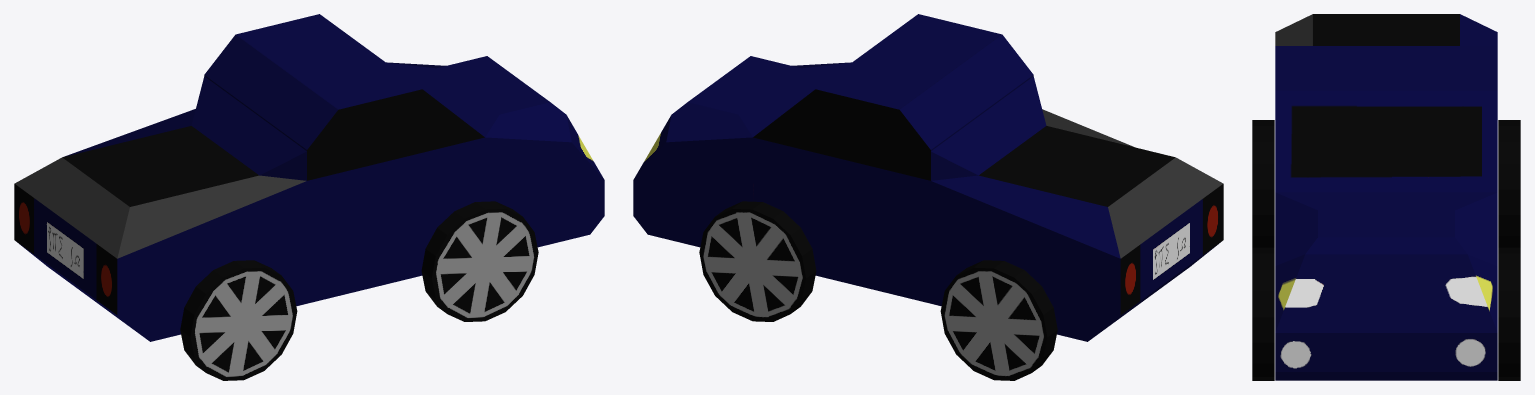
Rendered from car2_blue.gltf.
3 views of the same model, side by side, from view 1: azimuth 30°, elevation 25°; view 2: azimuth 150°, elevation 25°; view 3: azimuth 270°, elevation 25° (orthographic). The views are drawn at different scales.
Visible parts, largest first — view 1: car, tireBR, tireFR; view 2: car, tireBL, tireFL; view 3: car, tireFL, tireFR, tireBL, tireBR.
Part boxes in pixels (x1,y1,x2,y2): car: (14,14,604,341); tireBR: (180,260,297,380); tireFR: (421,201,538,321); car: (633,14,1223,341); tireBL: (940,260,1057,380); tireFL: (699,201,816,321); car: (1275,14,1497,380); tireFL: (1498,247,1520,380); tireFR: (1252,247,1274,380); tireBL: (1498,120,1520,247); tireBR: (1252,120,1274,247).
Size of the model in its own units: 5.47 by 2.55 by 2.41.
Materials: 5 (5 with a texture image).
